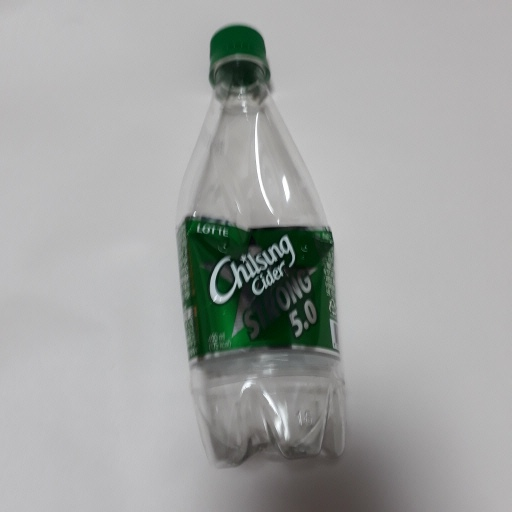Plastic_0: (175, 24, 351, 464)
